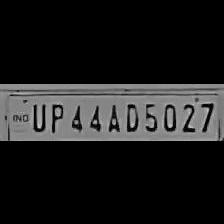0: (158, 100, 178, 132)
2: (178, 100, 198, 132)
4: (66, 100, 86, 132), (84, 100, 104, 132)
5: (140, 99, 158, 133)
7: (196, 100, 214, 132)
A: (103, 100, 121, 132)
D: (122, 99, 140, 133)
P: (45, 100, 65, 132)
U: (28, 100, 46, 132)
